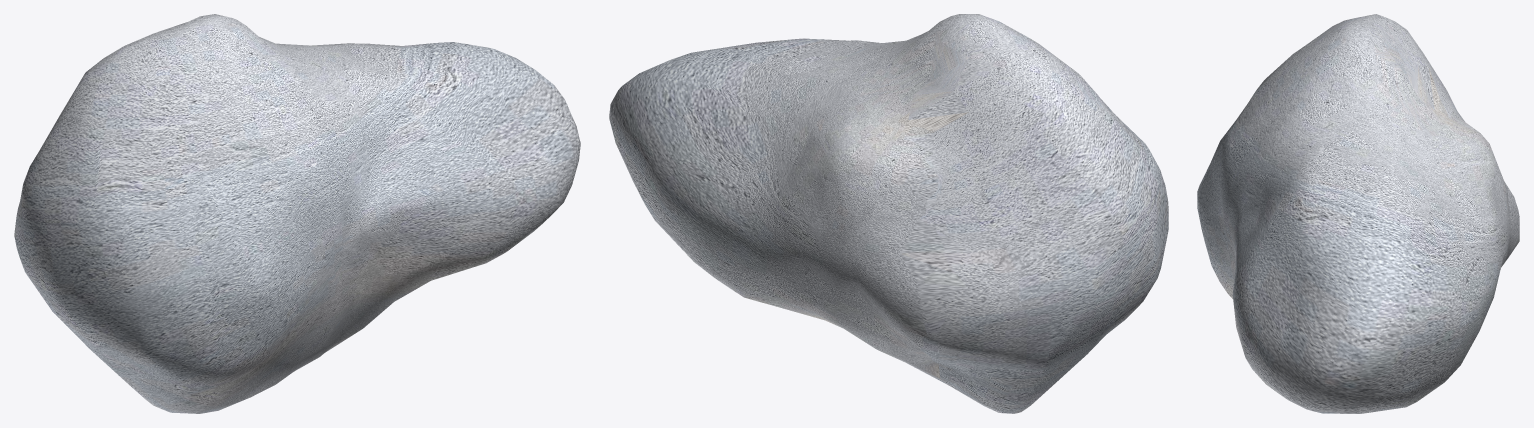
Rendered from gaspra.gltf.
The picture shows the model from 3 angles, left to right: view 1: azimuth 30°, elevation 25°; view 2: azimuth 150°, elevation 25°; view 3: azimuth 270°, elevation 25°; orthographic projection. The views are drawn at different scales.
Parts seen in each view (by area): view 1: gaspra; view 2: gaspra; view 3: gaspra.
Boxes of the visible parts, bbox=[...] form: gaspra: bbox=[14, 14, 580, 413]; gaspra: bbox=[609, 14, 1168, 413]; gaspra: bbox=[1197, 14, 1519, 413].
Size of the model in its own units: 17.94 by 12.36 by 10.1.
Materials: 1 (1 with a texture image).
